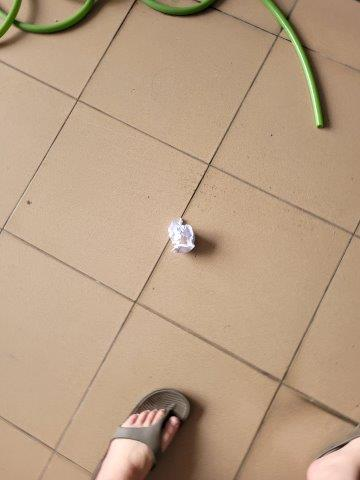kertas: (170, 218, 197, 254)
